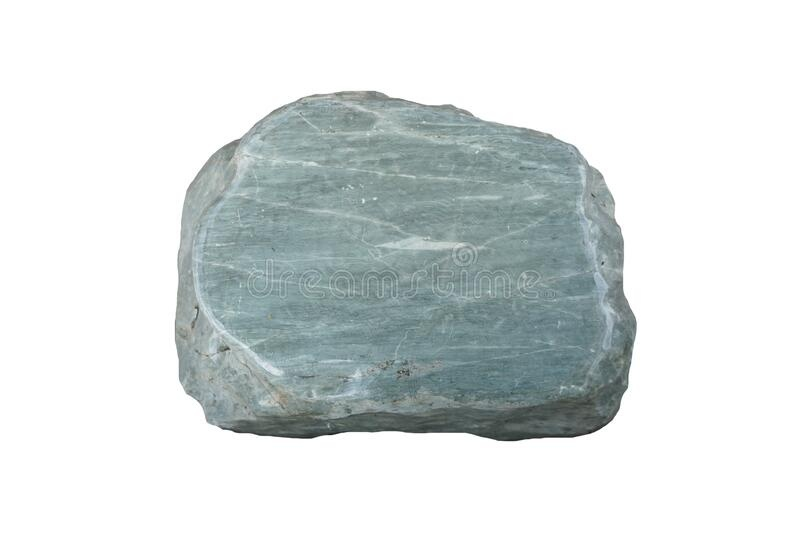obstacle: (175, 92, 634, 439)
